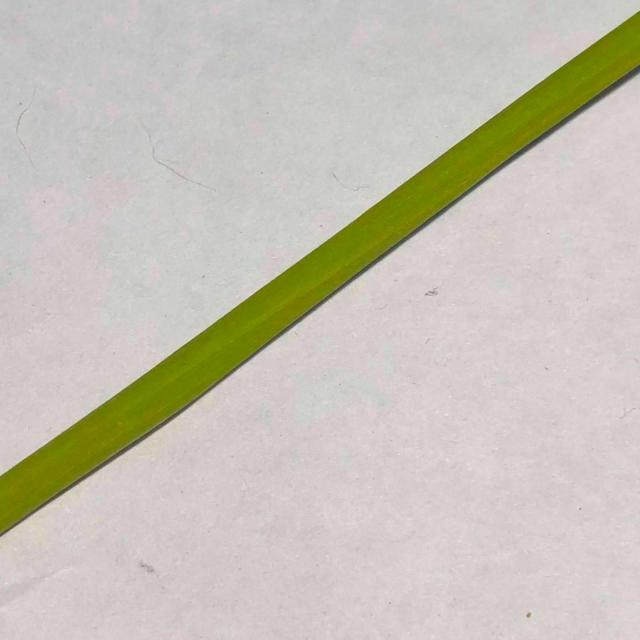healthy: (0, 1, 640, 548)
